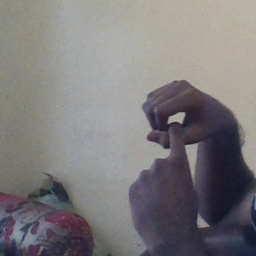Q: (128, 77, 225, 221)
